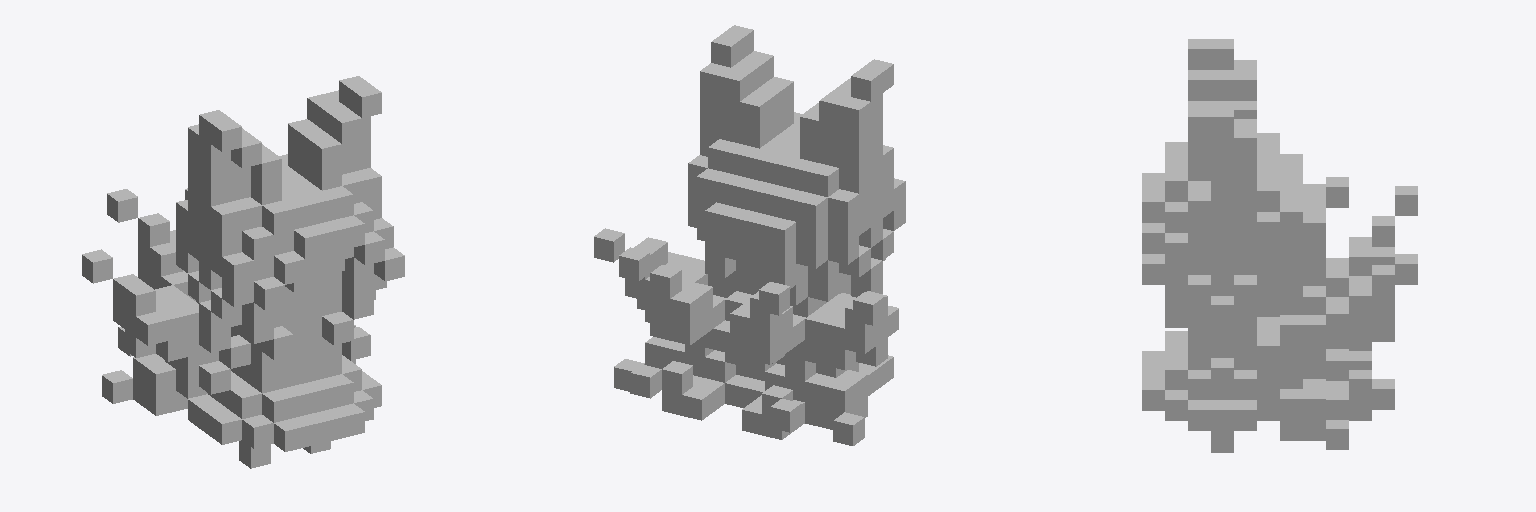
The model's file is chr_fox.obj.
The picture shows the model from 3 angles: view 1: azimuth 30°, elevation 25°; view 2: azimuth 150°, elevation 25°; view 3: azimuth 270°, elevation 25°; orthographic projection.
Size of the model in its own units: 14 by 17 by 12.